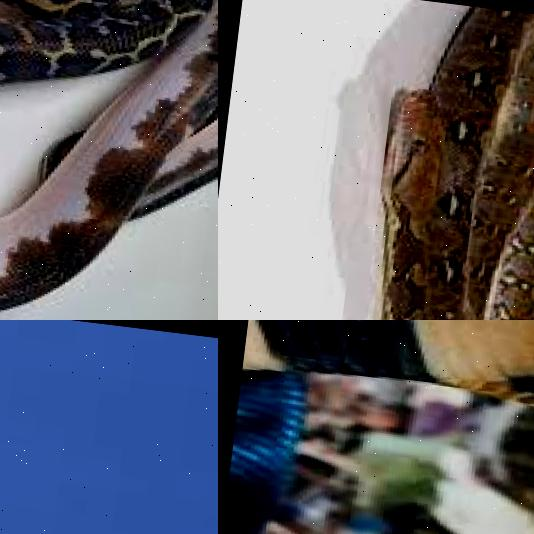snake: (0, 0, 218, 320), (341, 0, 534, 320), (239, 320, 534, 441)
